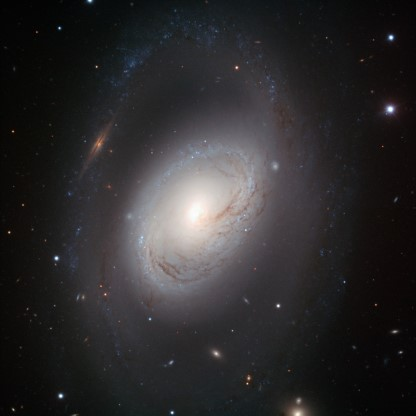Messier 96: (63, 15, 342, 401)
